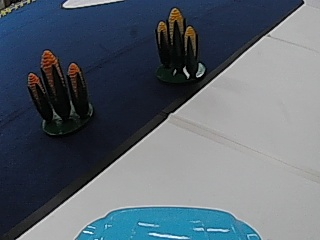corn: (25, 47, 96, 134), (152, 3, 205, 83)
